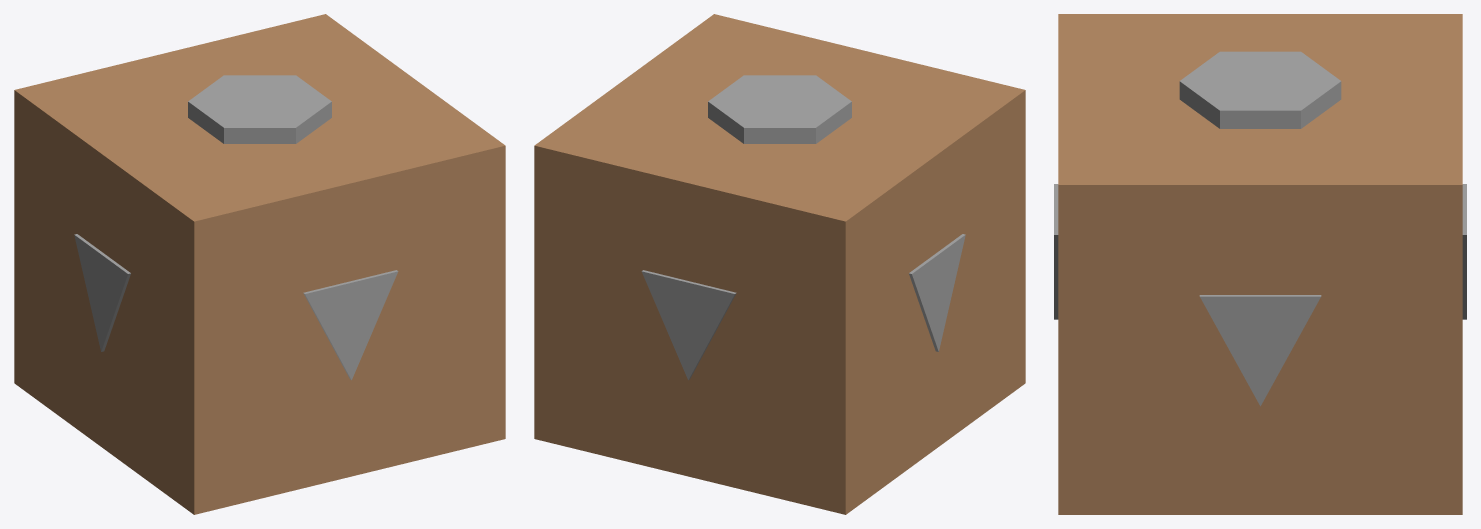
Rendered from multiplier.glb.
The picture shows the model from 3 angles, left to right: view 1: azimuth 30°, elevation 25°; view 2: azimuth 150°, elevation 25°; view 3: azimuth 270°, elevation 25°; orthographic projection. The views are drawn at different scales.
Visible parts, largest first — view 1: Cube, Port1, Cube.002, Cube.004; view 2: Cube, Port1, Cube.001, Cube.004; view 3: Cube, Port1, Cube.003, Cube.001, Cube.002.
Part boxes in pixels (x1,y1,x2,y2): Cube: (14, 14, 505, 514); Port1: (188, 75, 331, 143); Cube.002: (303, 270, 398, 380); Cube.004: (74, 234, 130, 351); Cube: (534, 14, 1025, 514); Port1: (708, 75, 851, 143); Cube.001: (641, 270, 736, 380); Cube.004: (909, 234, 965, 351); Cube: (1058, 14, 1462, 514); Port1: (1179, 51, 1341, 128); Cube.003: (1199, 295, 1321, 406); Cube.001: (1462, 184, 1466, 319); Cube.002: (1054, 184, 1058, 319).
Size of the model in its own units: 1.02 by 1 by 1.02.
